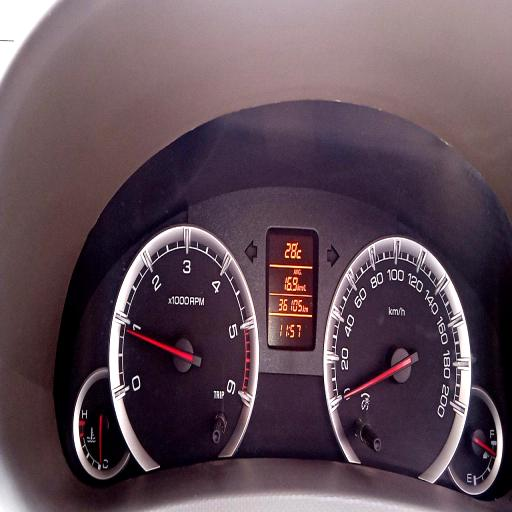tachometer: (110, 223, 258, 471)
